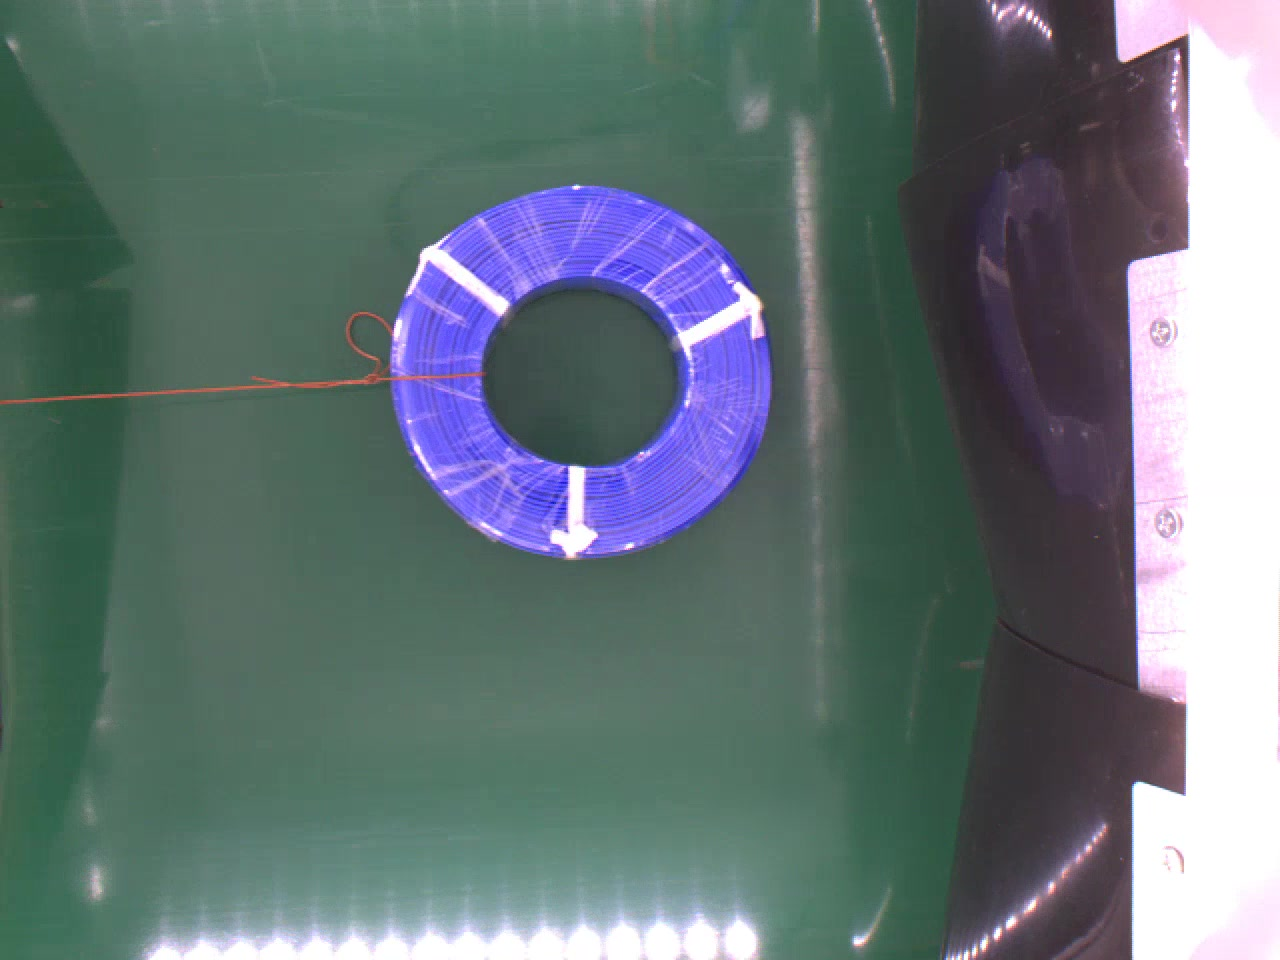blue: (392, 183, 776, 564)
